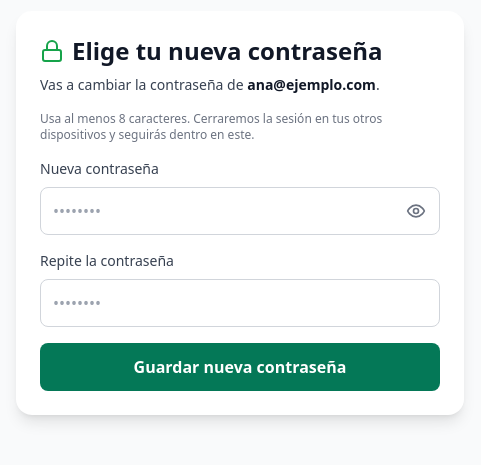
Test case: ResetPassword (QA-040: clara, y dice de qué cuenta es) › el error de un campo se quita en cuanto se corrige (no deja un mensaje falso mientras escribes)
Expected: the text "ana@ejemplo.com" is shown, 247,75 -> 376,94
Type "corta" into the password field labelled "Nueva contraseña".
click(240, 211); type("corta")  # box 40,187 -> 440,235
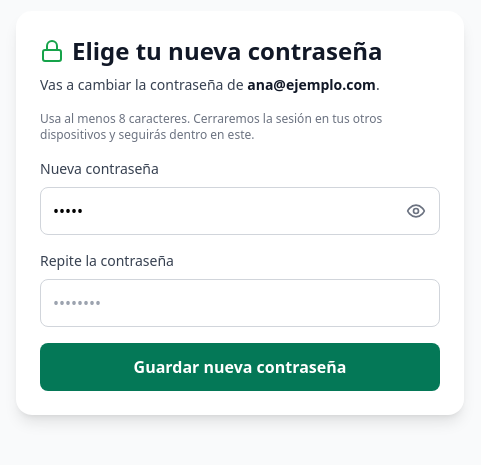
Type "distinta" into the password field labelled "Repite la contraseña".
click(240, 303); type("distinta")  # box 40,279 -> 440,327
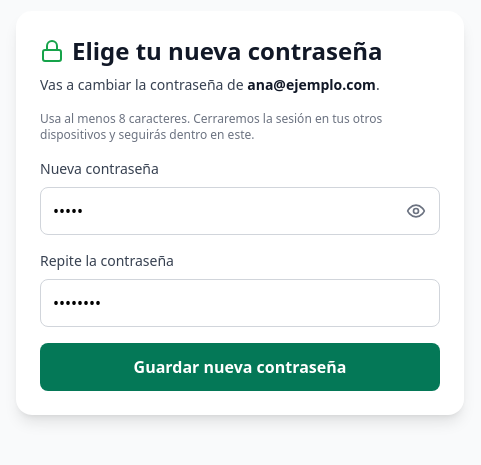
Click the button "Guardar nueva contraseña".
click(240, 367)  # box 40,343 -> 440,391
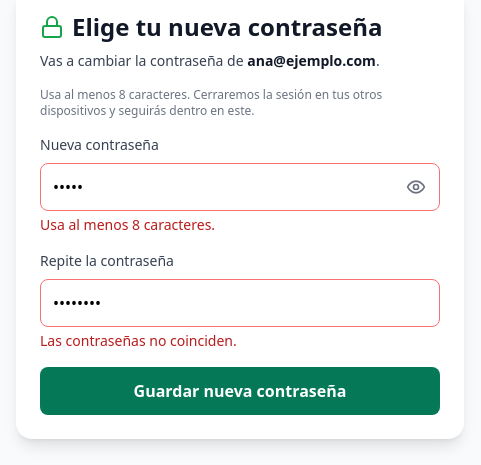
Result: the text "Usa al menos 8 caracteres." is shown at 40,215 -> 215,234
Type "larguisima1" into the password field labelled "Nueva contraseña".
click(240, 187); type("larguisima1")  # box 40,163 -> 440,211
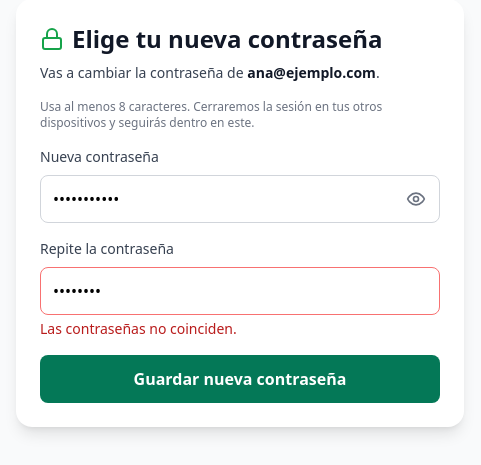
Result: the text "Las contraseñas no coinciden." is shown at 40,319 -> 237,338
Type "larguisima1" into the password field labelled "Repite la contraseña".
click(240, 291); type("larguisima1")  # box 40,267 -> 440,315
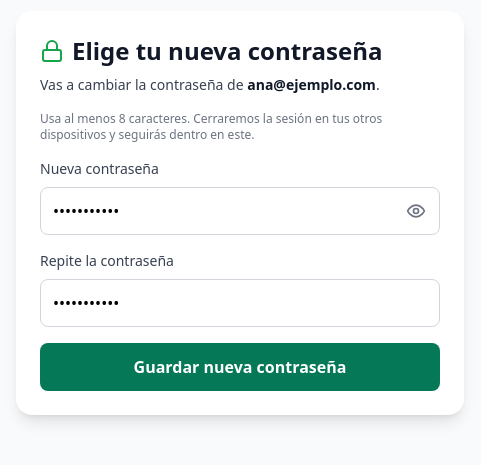
Result: the text "Las contraseñas no coinciden." is gone
